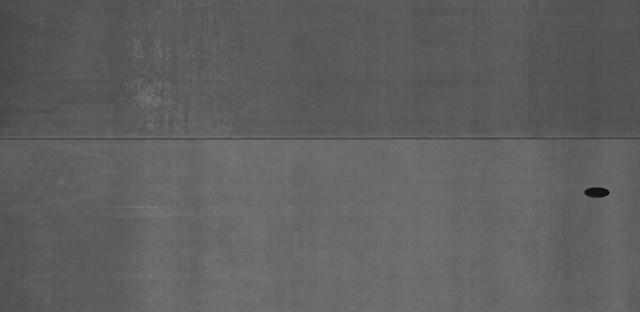punching_hole: (578, 182, 614, 201)
welding_line: (2, 132, 638, 147)
